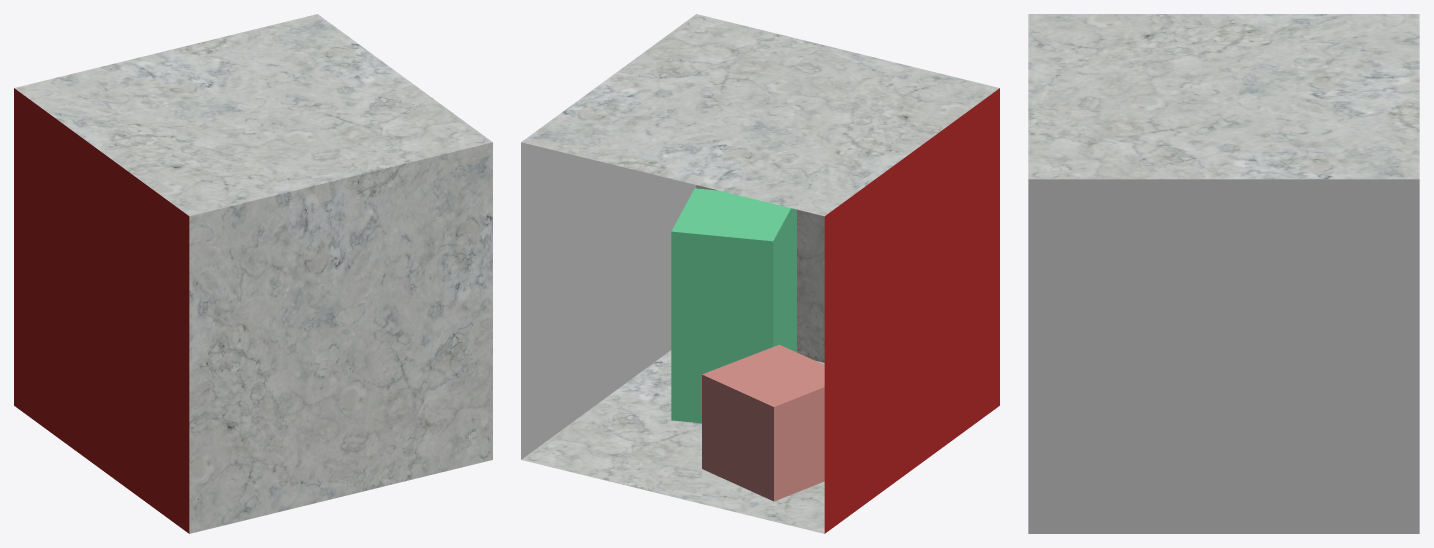
3 views of the same model, side by side, from view 1: azimuth 30°, elevation 25°; view 2: azimuth 150°, elevation 25°; view 3: azimuth 270°, elevation 25° (orthographic). The views are drawn at different scales.
Parts seen in each view (by area): view 1: room; view 2: room, tall, short; view 3: room.
Boxes of the visible parts, x1,y1,x2,y2 form: room: (14,14,492,533); room: (521,14,999,533); tall: (671,188,796,423); short: (702,344,824,501); room: (1028,14,1419,533).
Bounding box in the file's own units: 555 × 555 × 555.
